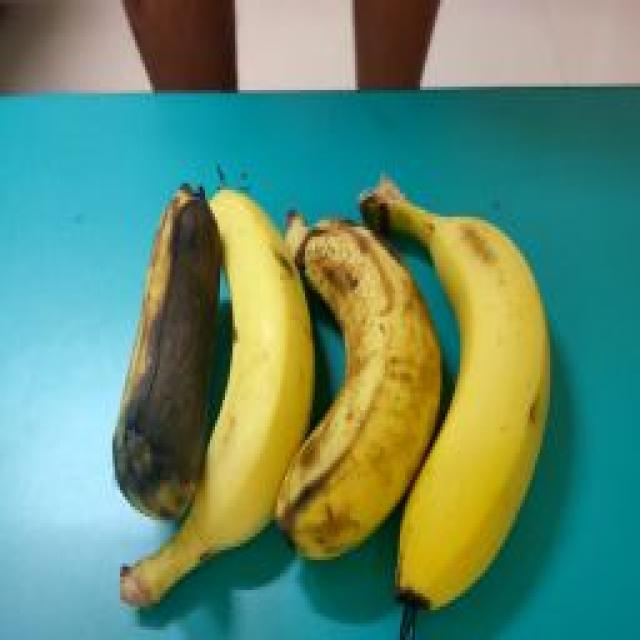Organik: (359, 132, 552, 630), (127, 132, 312, 610), (270, 173, 443, 566), (101, 180, 217, 525)
